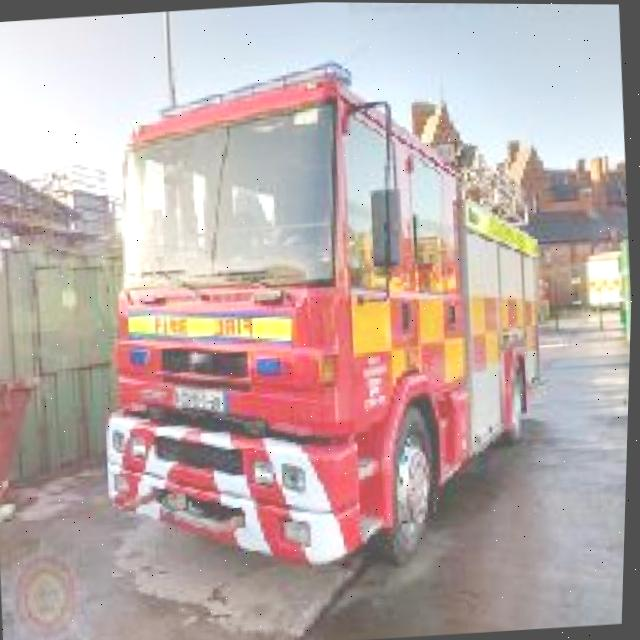emergency: (75, 42, 571, 588)
